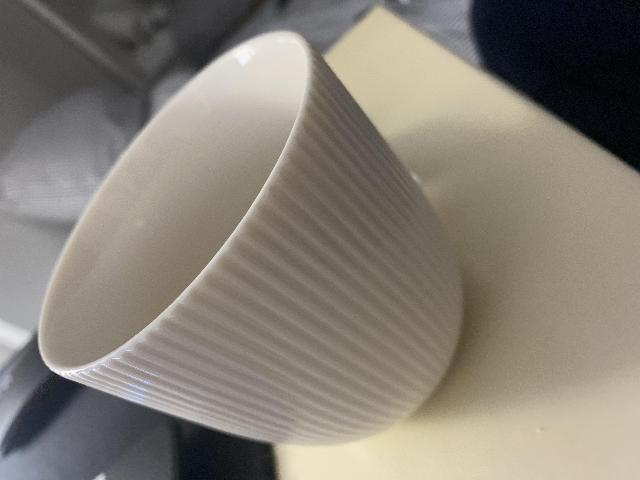Cam: (39, 26, 462, 449)
